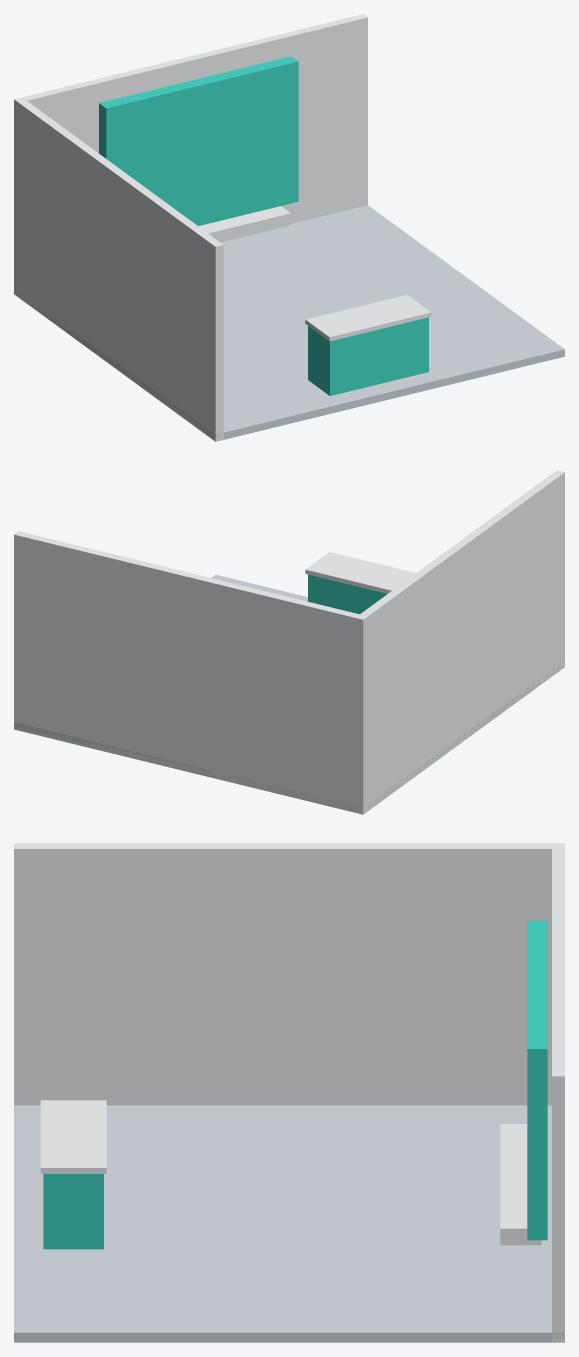
3 views of the same model, one above another, from view 1: azimuth 30°, elevation 25°; view 2: azimuth 150°, elevation 25°; view 3: azimuth 270°, elevation 25° (orthographic). The views are drawn at different scales.
Parts seen in each view (by area): view 1: Exhibition Booth Concept; view 2: Exhibition Booth Concept; view 3: Exhibition Booth Concept.
Part boxes in pixels (x1,y1,x2,y2): Exhibition Booth Concept: (14,14,564,441); Exhibition Booth Concept: (14,470,564,814); Exhibition Booth Concept: (14,843,564,1342).
Size of the model in its own units: 6 by 3.2 by 6.
